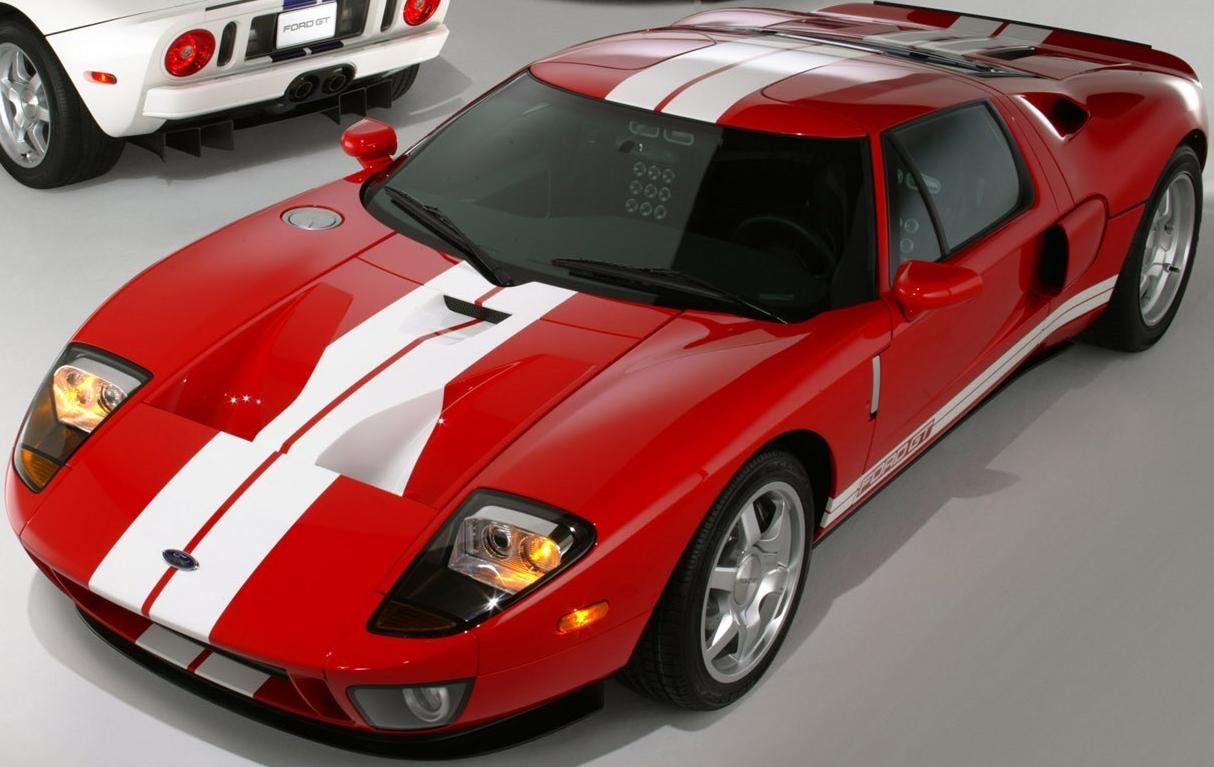front_view: (8, 330, 636, 729)
headlight: (357, 475, 604, 676)
side_glass: (847, 106, 1073, 273)
